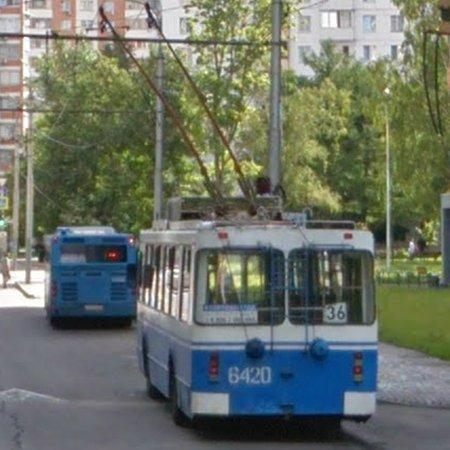buses: (138, 221, 378, 422), (45, 227, 138, 325)
